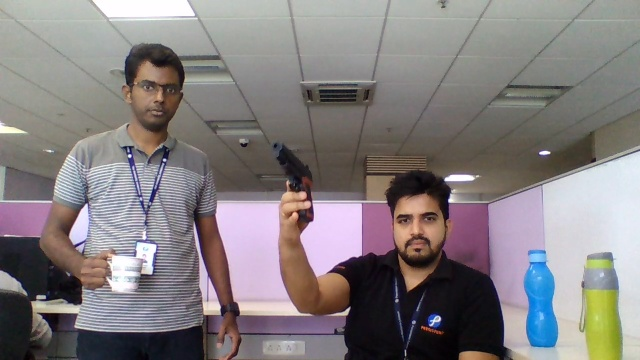gun: (271, 142, 312, 190)
